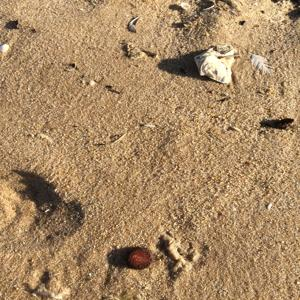metal: (126, 242, 155, 268)
plastic: (194, 31, 237, 91)
